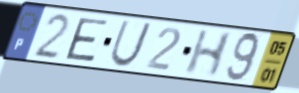2: (31, 12, 72, 61), (144, 26, 182, 73)
9: (223, 31, 261, 85)
E: (63, 16, 111, 64)
H: (181, 28, 236, 79)
U: (107, 19, 154, 69)
